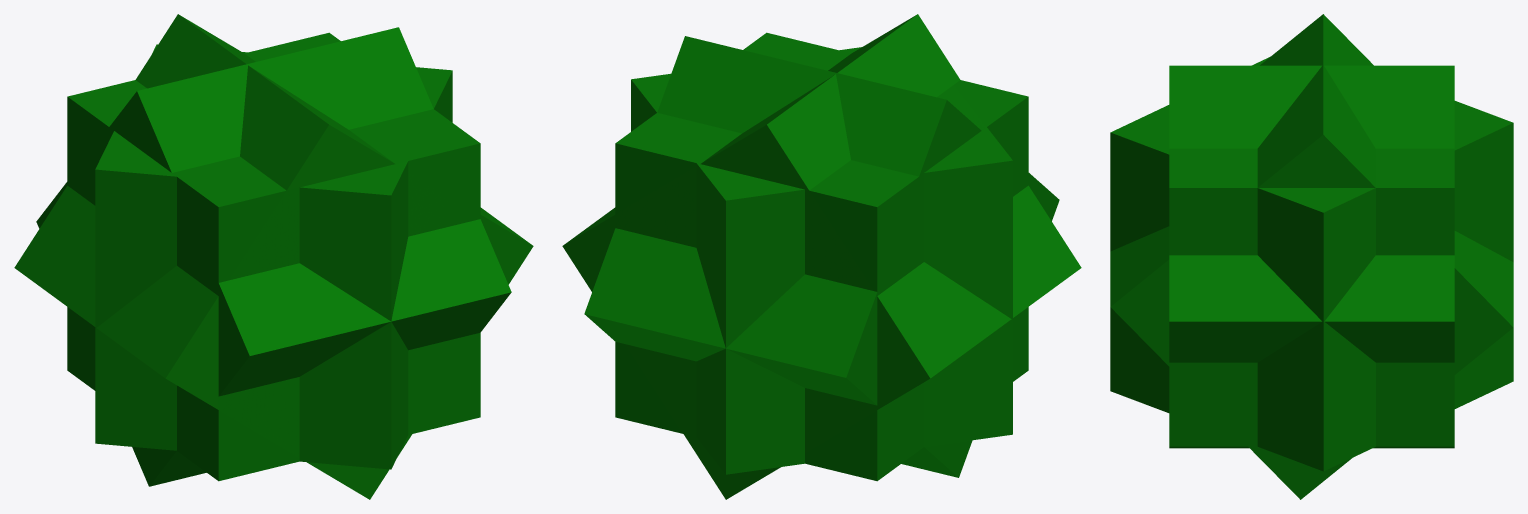
Rendered from cubed.glb.
3 views of the same model, side by side, from view 1: azimuth 30°, elevation 25°; view 2: azimuth 150°, elevation 25°; view 3: azimuth 270°, elevation 25° (orthographic). The views are drawn at different scales.
Parts seen in each view (by area): view 1: Cube001, Cube004, Cube, Cube002; view 2: Cube004, Cube001, Cube002, Cube; view 3: Cube004, Cube002, Cube001, Cube.
Part boxes in pixels (<box>): Cube001: <box>36,27,511,486</box>; Cube004: <box>95,44,452,469</box>; Cube: <box>67,32,480,481</box>; Cube002: <box>14,14,533,499</box>; Cube004: <box>631,47,1012,474</box>; Cube001: <box>584,36,1059,477</box>; Cube002: <box>562,14,1081,499</box>; Cube: <box>615,32,1028,481</box>; Cube004: <box>1110,56,1513,471</box>; Cube002: <box>1169,65,1454,448</box>; Cube001: <box>1110,14,1513,499</box>; Cube: <box>1169,148,1454,446</box>.
Size of the model in its own units: 2.82 by 2.82 by 2.82.
